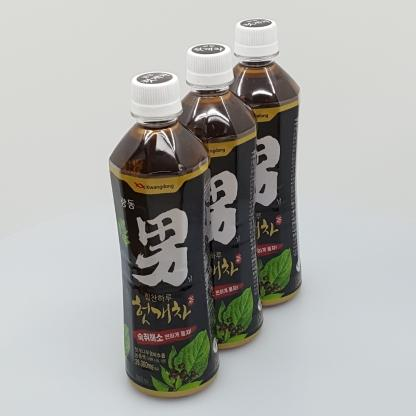---------500ML: (109, 71, 220, 397), (164, 43, 264, 349)
